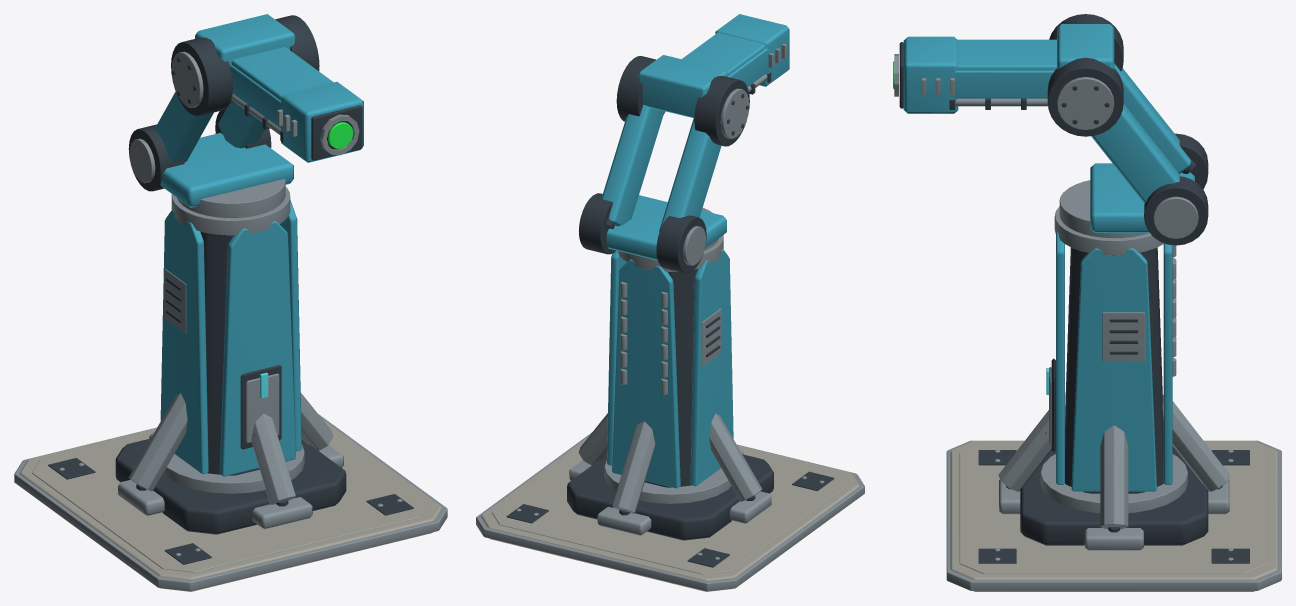
File: repair-tower.glb
The picture shows the model from 3 angles, left to right: view 1: azimuth 30°, elevation 25°; view 2: azimuth 150°, elevation 25°; view 3: azimuth 270°, elevation 25°; orthographic projection. The views are drawn at different scales.
Parts seen in each view (by area): view 1: concrete-pad-top, column-owner-panel.001, column-owner-panel, tower-plinth, metal-pad-rim, shoulder-deck, technical-pad, column-core, emitter-housing, forearm-top-armor, elbow-owner-cuff, brace-strut (+24 smaller); view 2: concrete-pad-top, column-owner-panel.003, column-owner-panel, tower-plinth, metal-pad-rim, technical-pad, arm-owner-link.001, column-core, elbow-owner-cuff, arm-owner-link, shoulder-deck, brace-strut.003 (+17 smaller); view 3: concrete-pad-top, column-owner-panel.002, tower-plinth, technical-pad, metal-pad-rim, column-core, emitter-housing, arm-owner-link.001, shoulder-deck, forearm-top-armor, base-bearing, brace-strut.002 (+24 smaller).
Part boxes in pixels (x1=…): concrete-pad-top: x1=32, y1=431, x2=429, y2=572; column-owner-panel.001: x1=219, y1=221, x2=295, y2=476; column-owner-panel: x1=160, y1=209, x2=208, y2=474; tower-plinth: x1=115, y1=438, x2=346, y2=534; metal-pad-rim: x1=14, y1=414, x2=447, y2=591; shoulder-deck: x1=160, y1=132, x2=293, y2=207; technical-pad: x1=20, y1=420, x2=441, y2=591; column-core: x1=201, y1=231, x2=259, y2=475; emitter-housing: x1=281, y1=81, x2=363, y2=162; forearm-top-armor: x1=231, y1=47, x2=333, y2=100; elbow-owner-cuff: x1=195, y1=14, x2=295, y2=66; brace-strut: x1=128, y1=393, x2=187, y2=491; concrete-pad-top: x1=492, y1=447, x2=848, y2=574; column-owner-panel.003: x1=612, y1=259, x2=680, y2=488; column-owner-panel: x1=690, y1=249, x2=733, y2=486; tower-plinth: x1=567, y1=454, x2=773, y2=540; metal-pad-rim: x1=476, y1=432, x2=864, y2=591; technical-pad: x1=481, y1=437, x2=859, y2=591; arm-owner-link.001: x1=602, y1=105, x2=664, y2=226; column-core: x1=645, y1=269, x2=697, y2=487; elbow-owner-cuff: x1=638, y1=55, x2=728, y2=117; arm-owner-link: x1=659, y1=118, x2=721, y2=232; shoulder-deck: x1=606, y1=195, x2=726, y2=260; brace-strut.003: x1=612, y1=421, x2=655, y2=513; concrete-pad-top: x1=959, y1=442, x2=1268, y2=573; column-owner-panel.002: x1=1071, y1=248, x2=1156, y2=491; tower-plinth: x1=1020, y1=446, x2=1208, y2=545; technical-pad: x1=950, y1=440, x2=1277, y2=591; metal-pad-rim: x1=946, y1=440, x2=1281, y2=590; column-core: x1=1065, y1=247, x2=1163, y2=493; emitter-housing: x1=903, y1=36, x2=958, y2=113; arm-owner-link.001: x1=1091, y1=104, x2=1181, y2=203; shoulder-deck: x1=1090, y1=163, x2=1194, y2=232; forearm-top-armor: x1=956, y1=39, x2=1056, y2=70; base-bearing: x1=1040, y1=454, x2=1187, y2=513; brace-strut.002: x1=1100, y1=425, x2=1128, y2=528.
Size of the model in its own units: 1.41 by 2.24 by 1.64.
